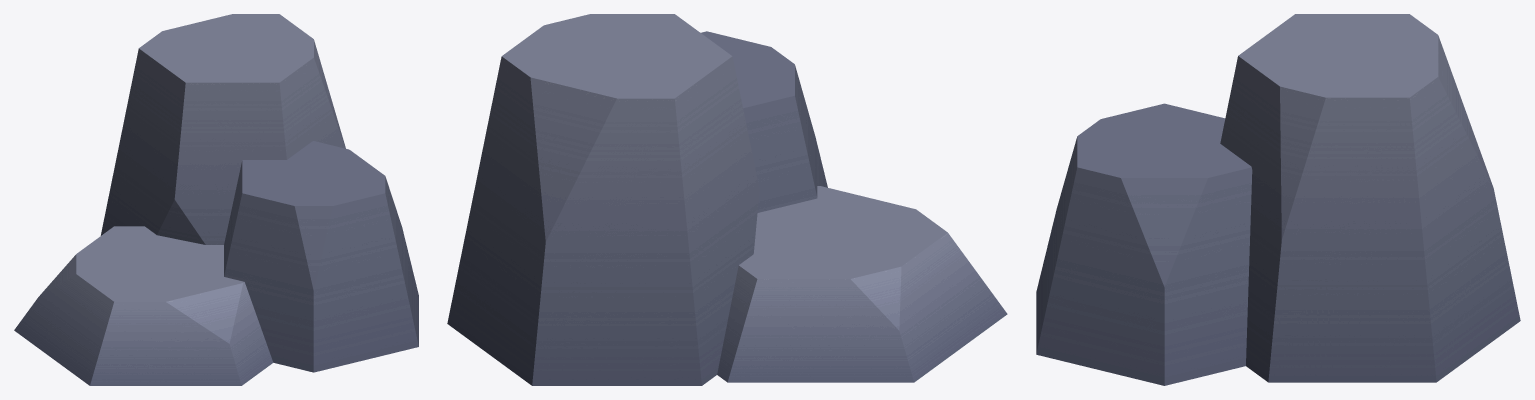
The model's file is rocks.glb.
3 views of the same model, side by side, from view 1: azimuth 30°, elevation 25°; view 2: azimuth 150°, elevation 25°; view 3: azimuth 270°, elevation 25° (orthographic). The views are drawn at different scales.
Visible parts, largest first — view 1: rocks; view 2: rocks; view 3: rocks.
Boxes of the visible parts, x1=… form: rocks: x1=14, y1=14, x2=418, y2=385; rocks: x1=447, y1=14, x2=1007, y2=385; rocks: x1=1036, y1=14, x2=1520, y2=385.
Bounding box in the file's own units: 0.6531 × 0.4 × 0.6623.
1 material, 1 textured.
